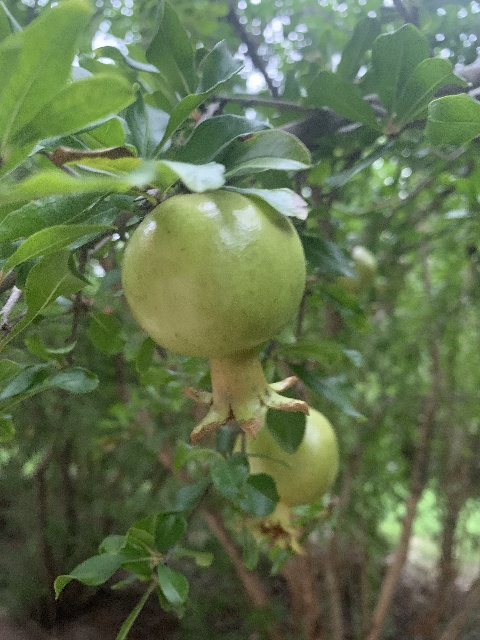mid-growth: (120, 187, 307, 440), (236, 405, 339, 551)
